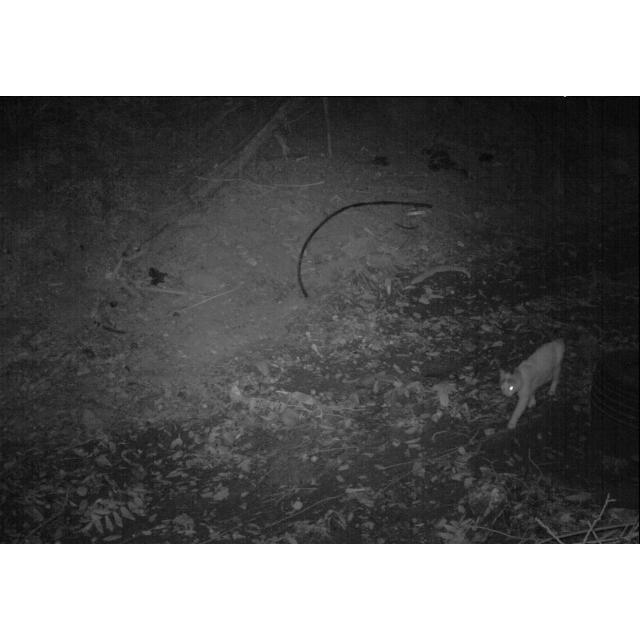animals: (495, 339, 569, 433)
